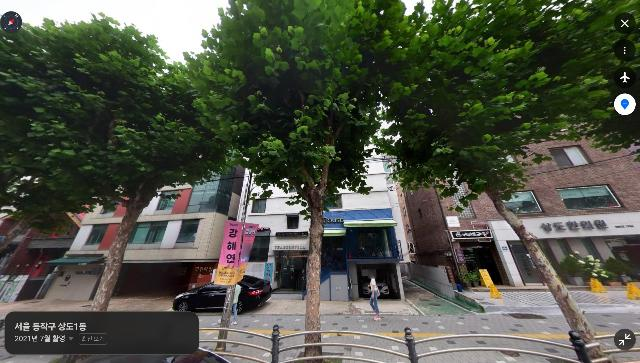other: (129, 0, 431, 362), (361, 0, 640, 363), (0, 11, 239, 313)
